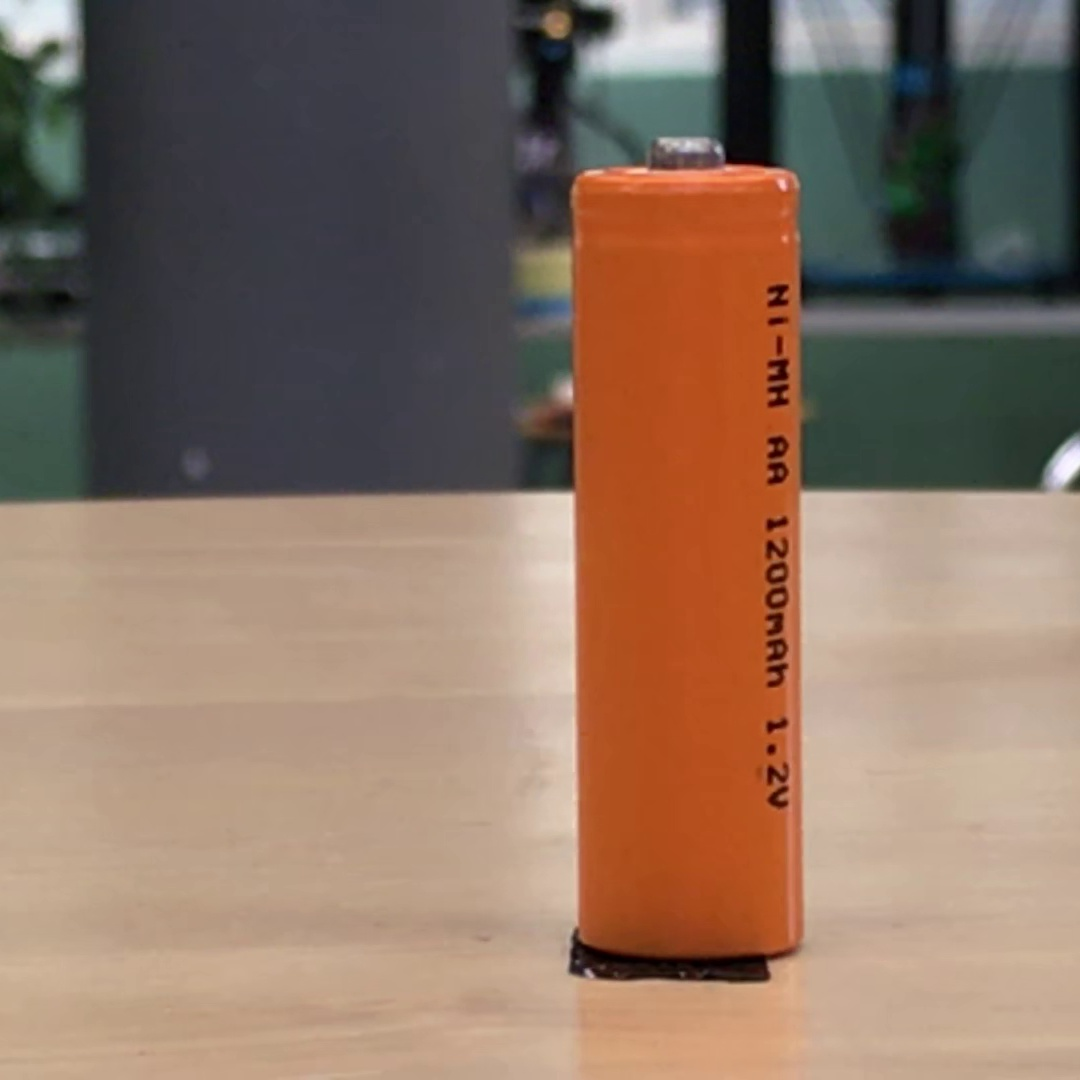keyword: (758, 275, 799, 417), (757, 709, 798, 818)
